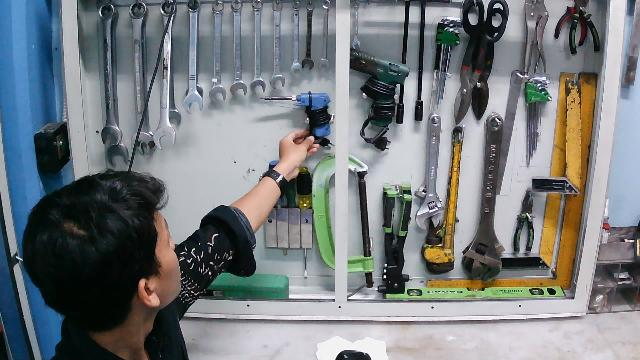solder_electrical: (261, 93, 335, 149)
